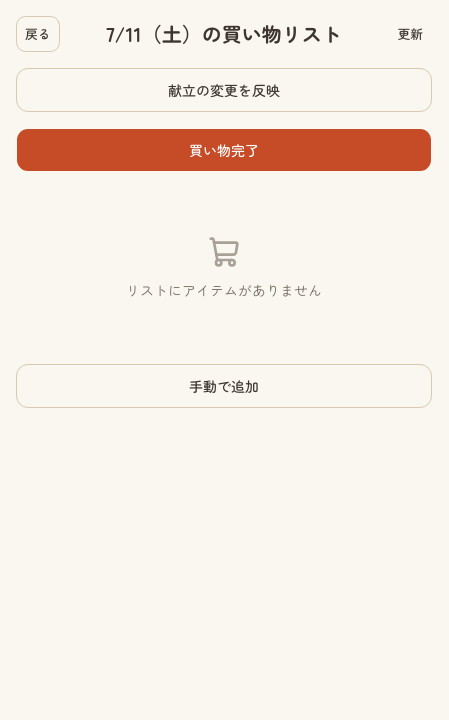
Scenario: ShoppingListClient（表示・手動追加・再取得） › LC-09: 手動追加が成功すると一覧に追加される
Click the button "手動で追加" at (224, 386), box [16,364,432,408]
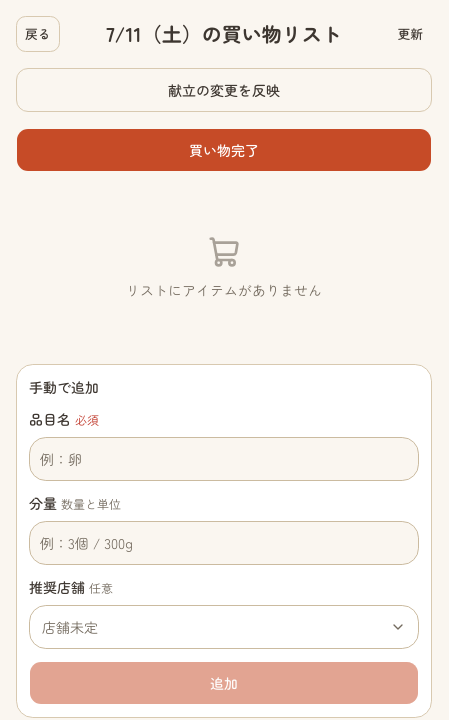
Type "卵" into the field labelled "品目名" at (224, 459), box [29,437,419,481]
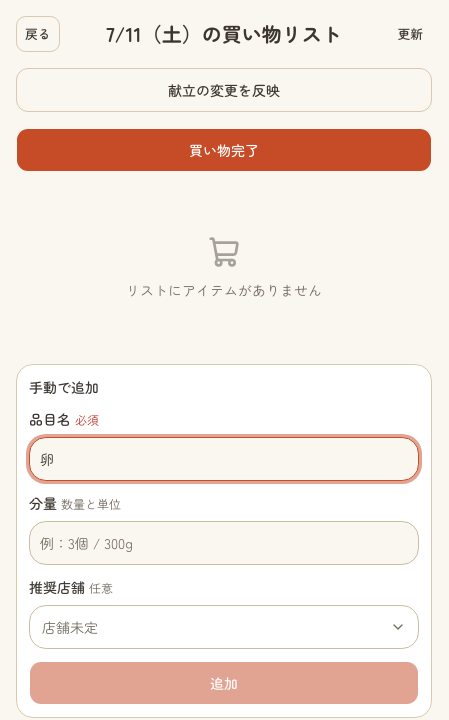
Type "1個" into the field labelled "分量" at (224, 543), box [29,521,419,565]
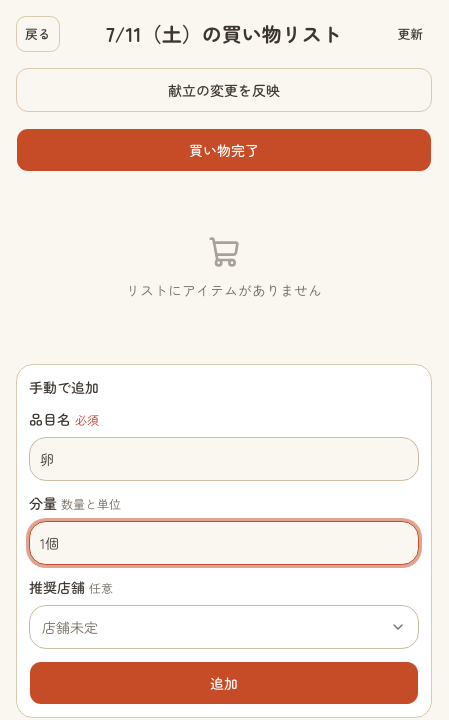
Click the button "追加" at (224, 683), box [29,661,419,705]
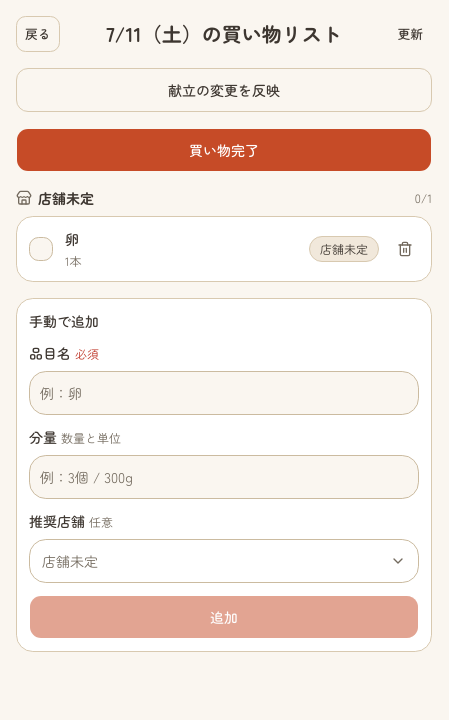
expect the checkbox named "卵" is shown: met, box [29,237,53,261]
